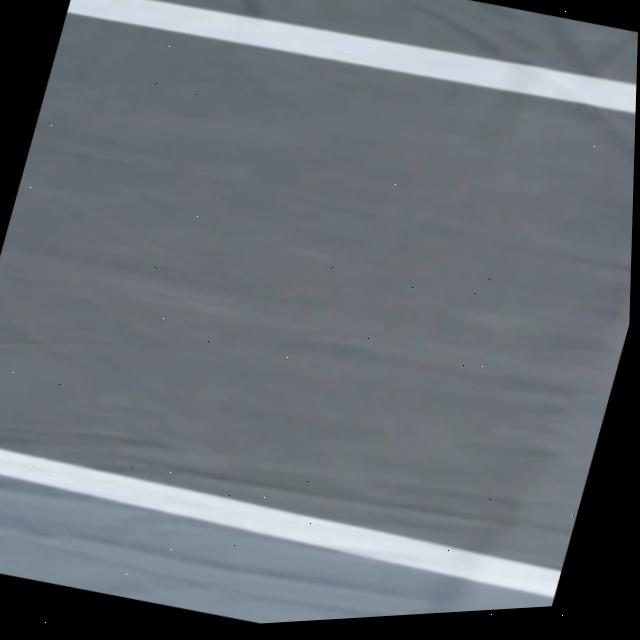center: (65, 0, 636, 114)
left: (0, 449, 561, 598)
